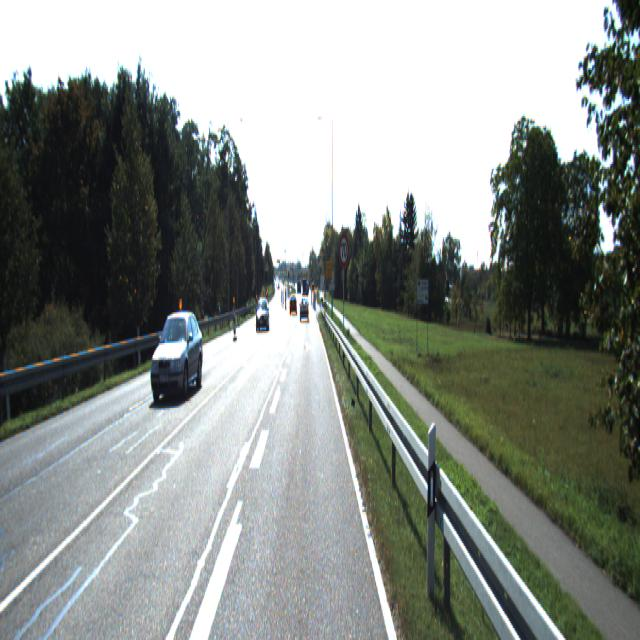Car: (148, 307, 204, 410), (256, 298, 270, 332), (300, 298, 309, 322)
